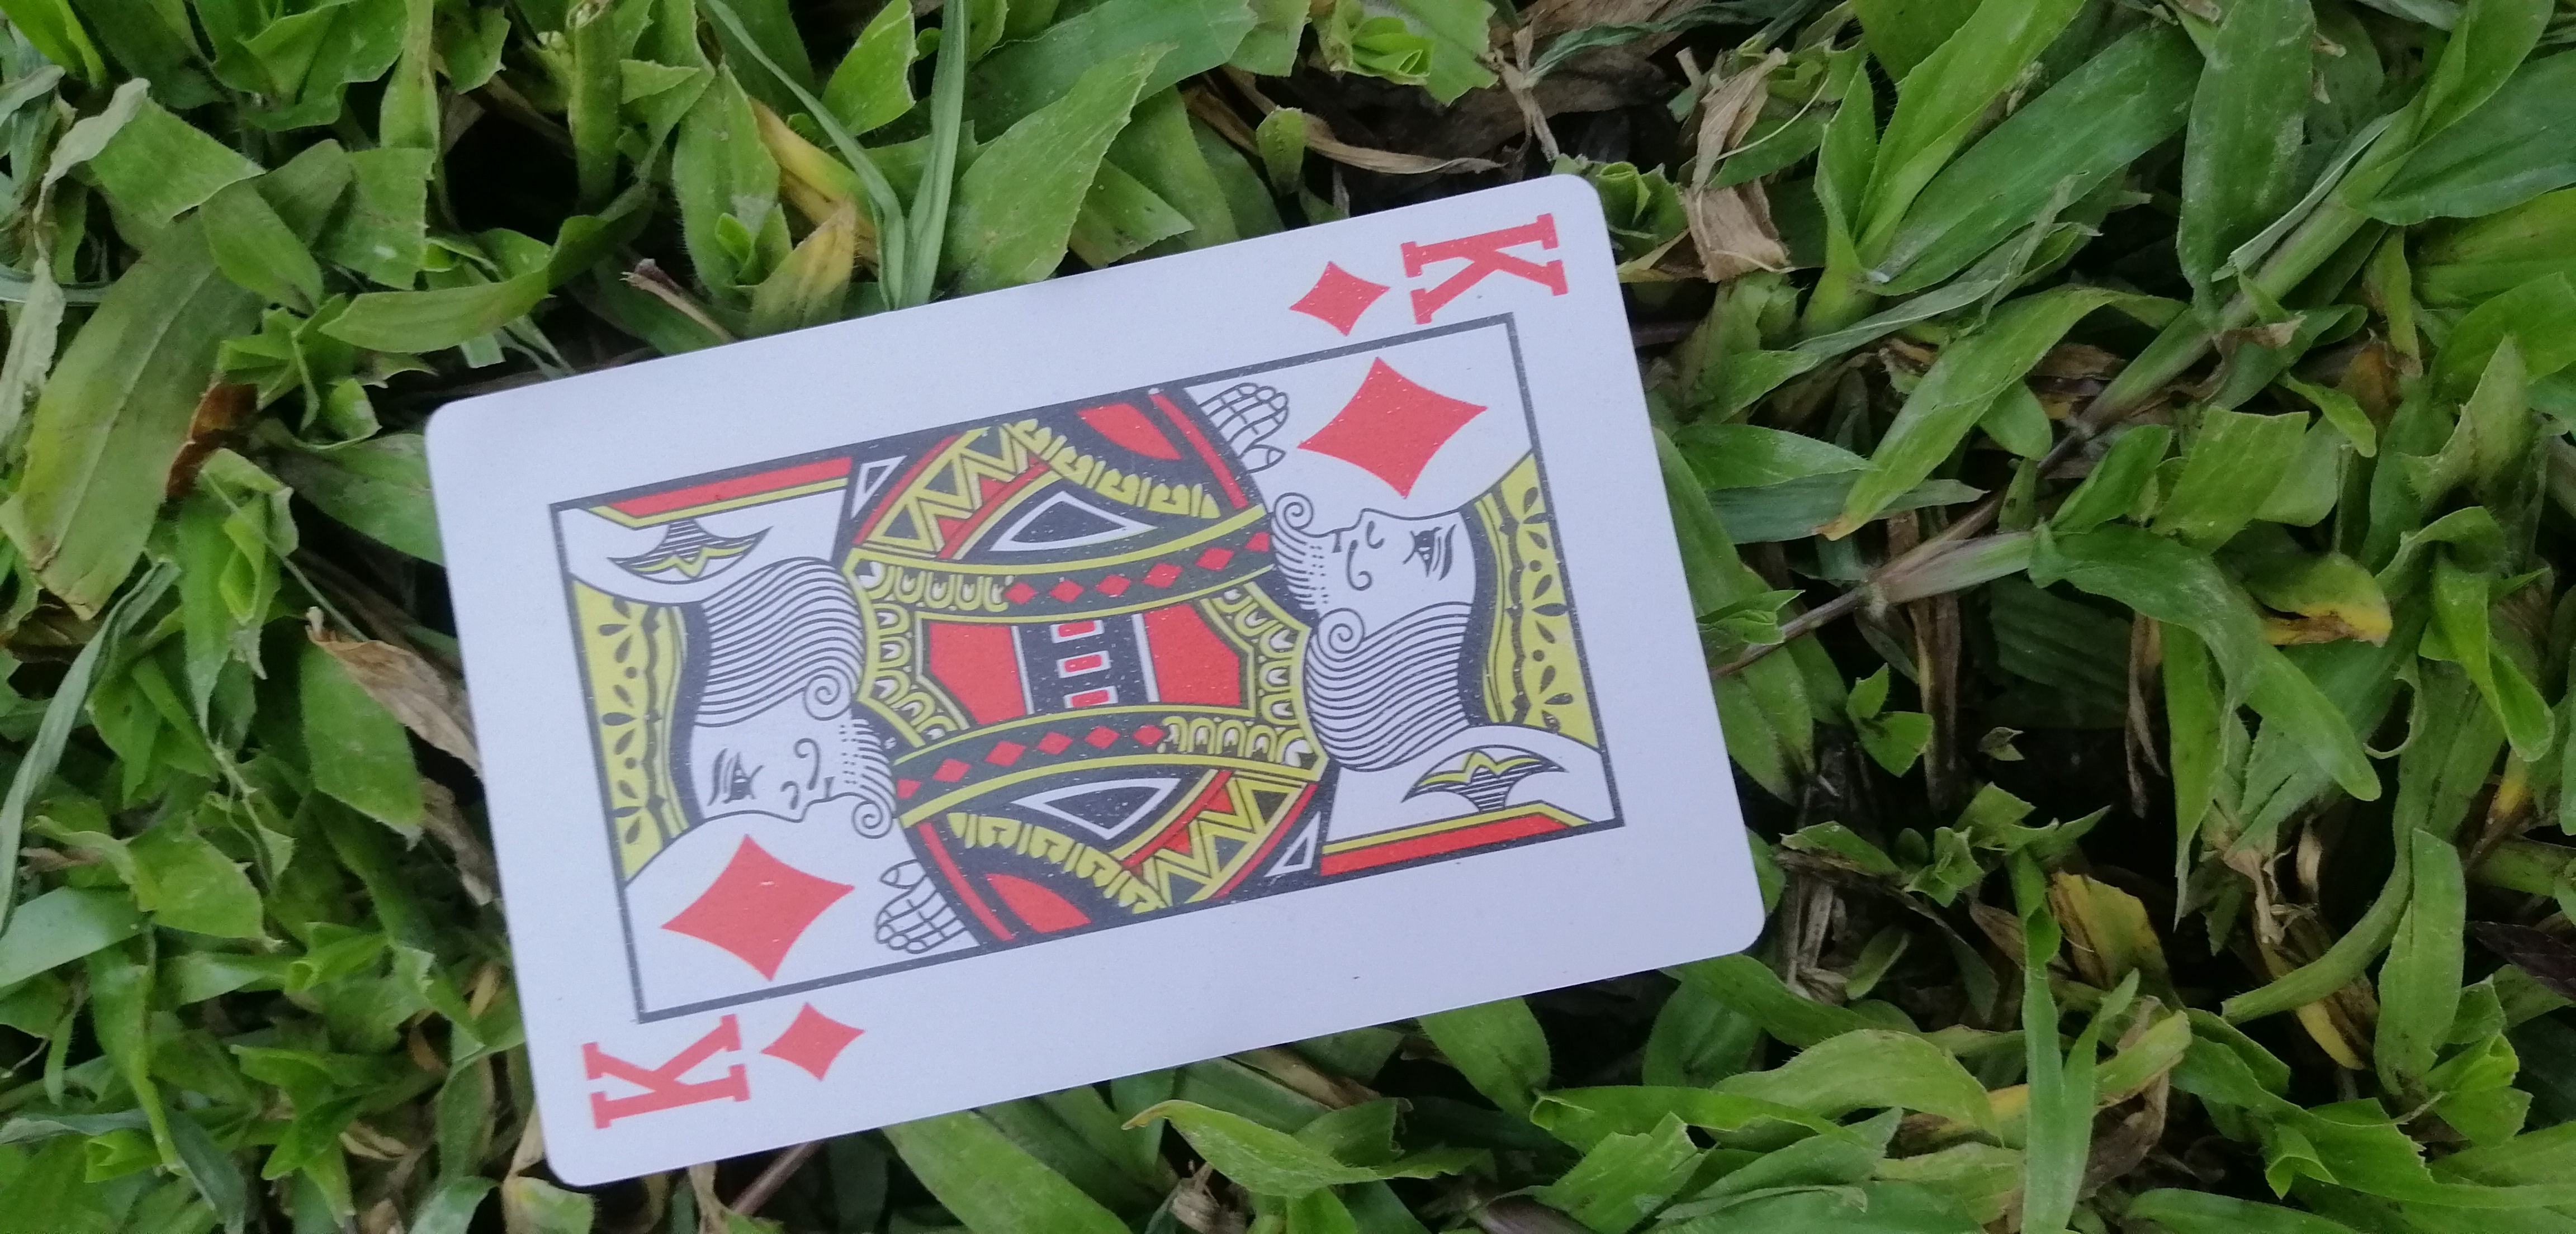king: (396, 163, 1748, 1183)
